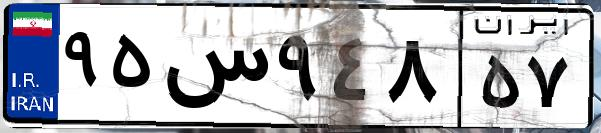4: (330, 28, 385, 110)
5: (475, 38, 525, 113), (110, 28, 158, 98)
7: (525, 38, 570, 115)
8: (385, 28, 445, 110)
9: (270, 28, 330, 110), (57, 26, 110, 100)
س: (158, 20, 270, 120)
